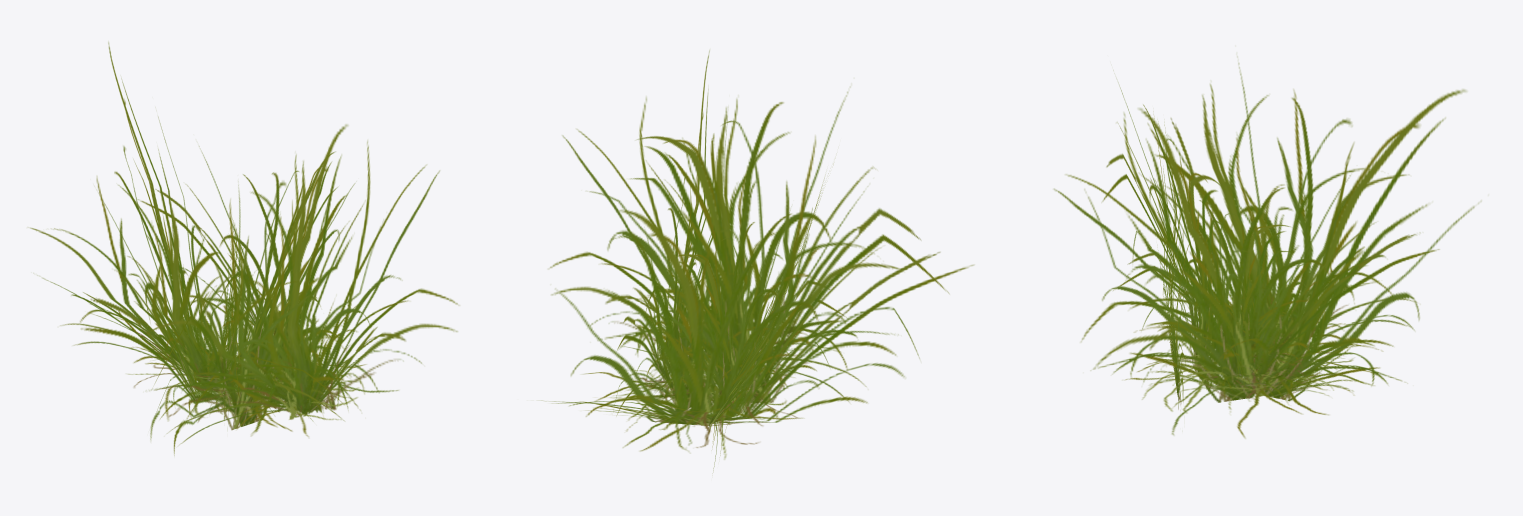
File: grass_fresh.gltf
The picture shows the model from 3 angles, left to right: view 1: azimuth 30°, elevation 25°; view 2: azimuth 150°, elevation 25°; view 3: azimuth 270°, elevation 25°; orthographic projection. The views are drawn at different scales.
Visible parts, largest first — view 1: Grass main fresh; view 2: Grass main fresh; view 3: Grass main fresh.
Part boxes in pixels (x1,y1,x2,y2): Grass main fresh: (28,42,459,455); Grass main fresh: (541,50,973,470); Grass main fresh: (1054,56,1481,438).
Bounding box in the file's own units: 0.3252 × 0.257 × 0.3178.
1 material, 1 textured.
